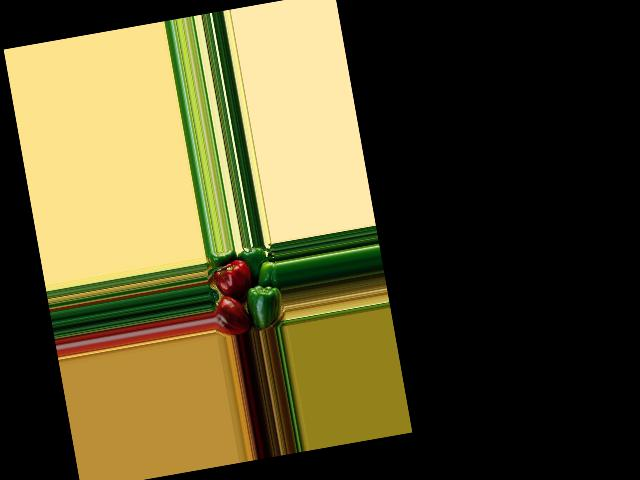bell_pepper: (211, 293, 250, 338)
